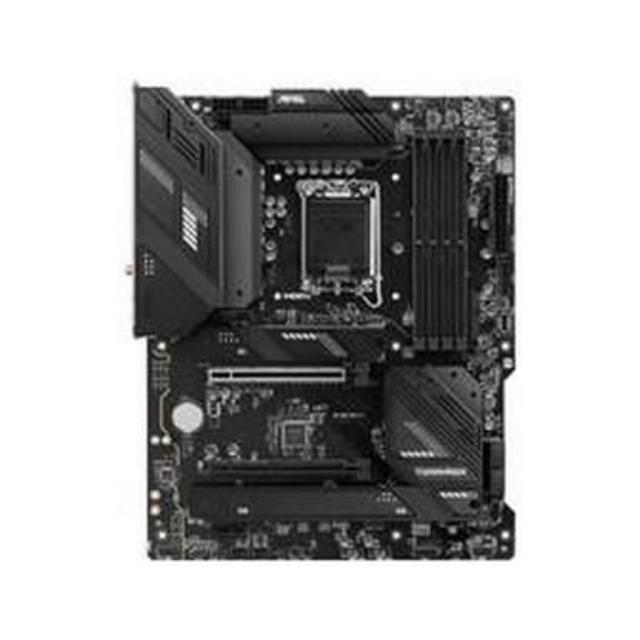Mainboard: (120, 67, 531, 584)
